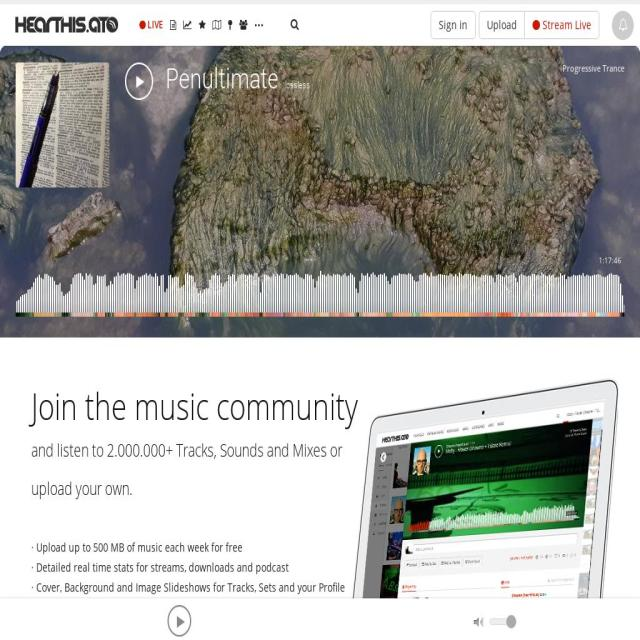button: (166, 61, 624, 103), (524, 11, 600, 39), (479, 11, 525, 39), (430, 11, 476, 39), (136, 8, 166, 46), (251, 8, 267, 46), (180, 8, 195, 46), (236, 8, 251, 46), (210, 8, 224, 46), (167, 8, 179, 46), (196, 8, 208, 46), (225, 8, 236, 46)
field: (288, 12, 400, 36)
heading: (31, 438, 342, 500), (31, 380, 358, 431)
image: (15, 62, 110, 188), (16, 312, 624, 316), (15, 16, 119, 32), (612, 11, 634, 40), (506, 615, 516, 628), (490, 619, 514, 624)
link: (562, 63, 624, 74), (285, 80, 310, 91)
text: (31, 579, 345, 595), (31, 559, 289, 575), (32, 599, 270, 615), (165, 62, 278, 95), (31, 539, 242, 555), (31, 619, 220, 635), (540, 16, 591, 32), (596, 254, 624, 267), (146, 18, 163, 32), (32, 639, 122, 640)
